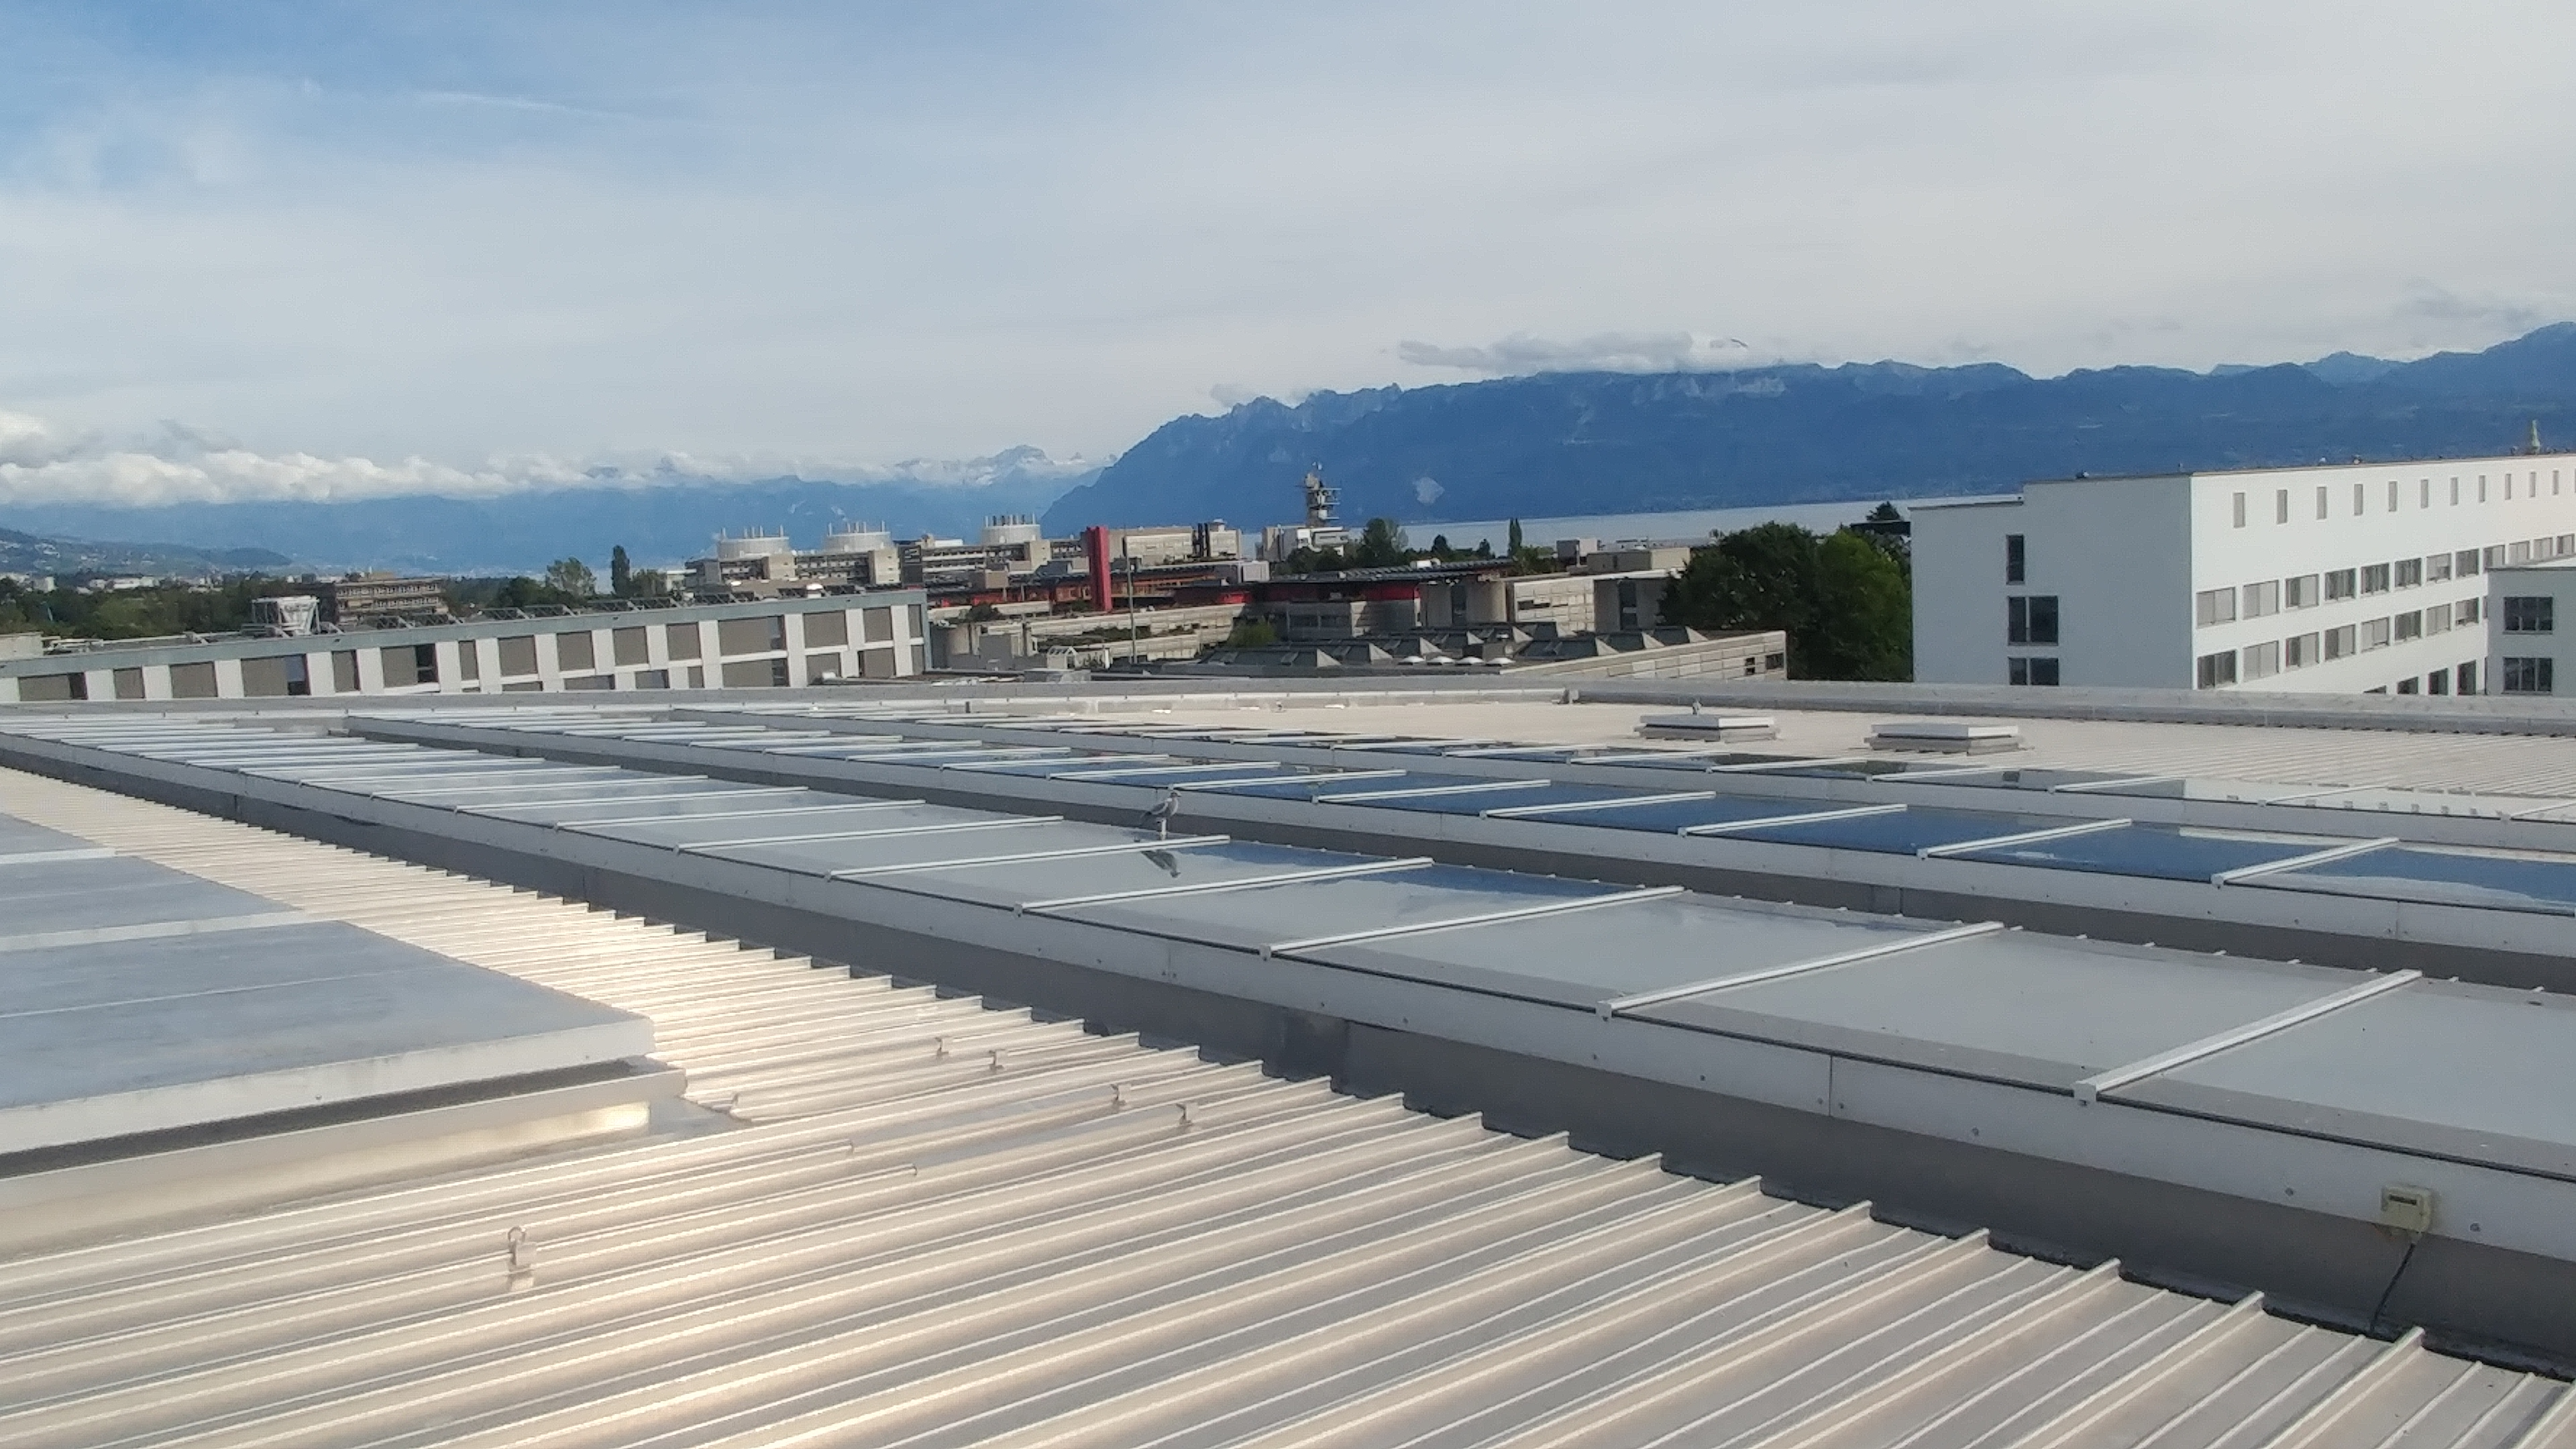Pigeon: (1136, 786, 1180, 837)
